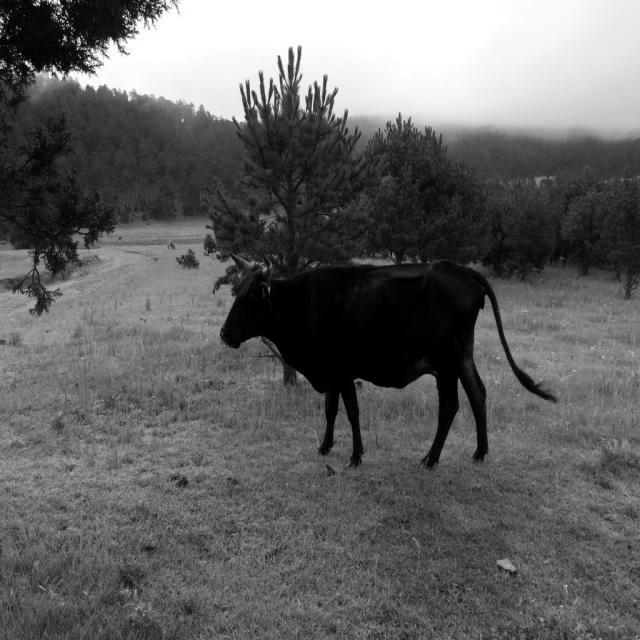COW: (221, 256, 556, 468)
